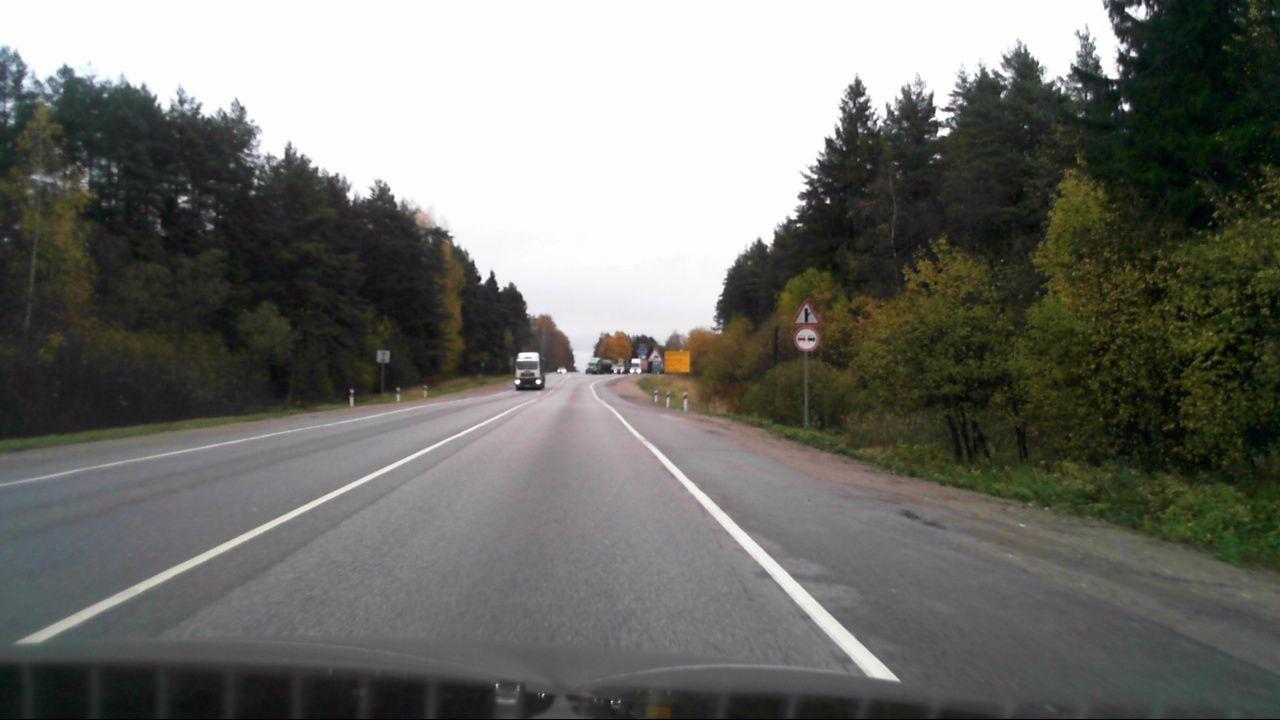2_3_4: (792, 300, 819, 325)
3_20: (794, 327, 821, 351)
